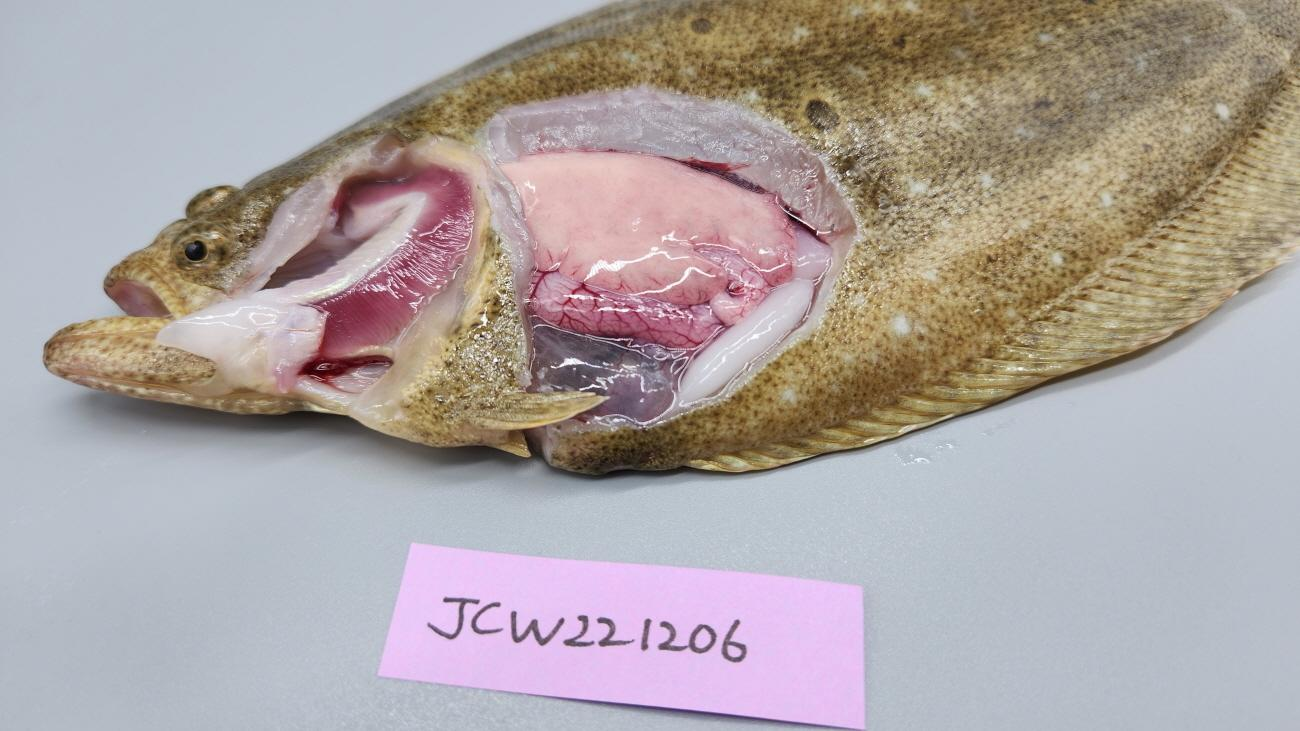POGIN: (307, 164, 475, 357)
POLIN: (498, 150, 794, 306)
